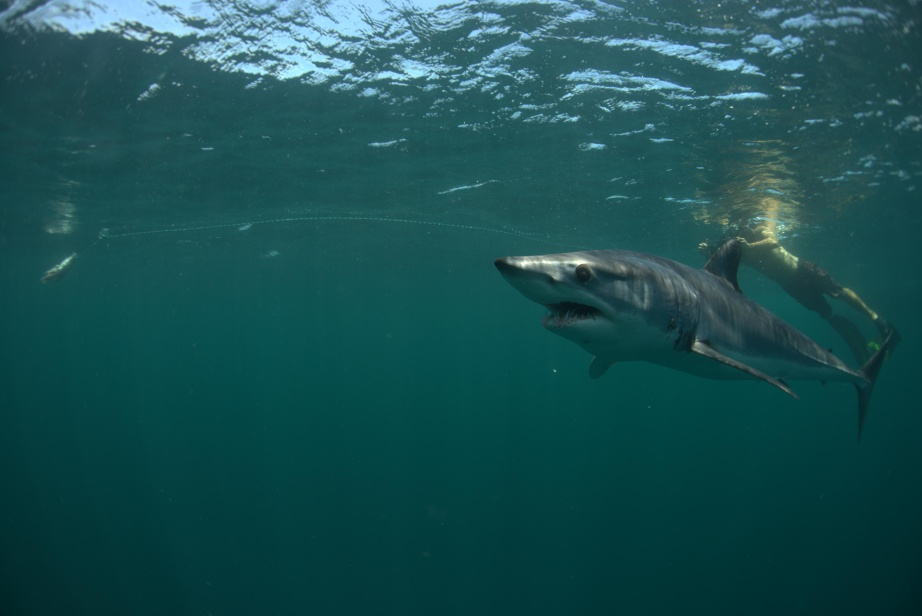Mako: (464, 218, 896, 453)
